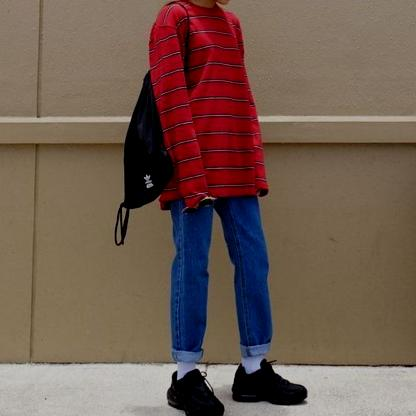dress: (148, 0, 266, 206), (167, 189, 278, 365)
